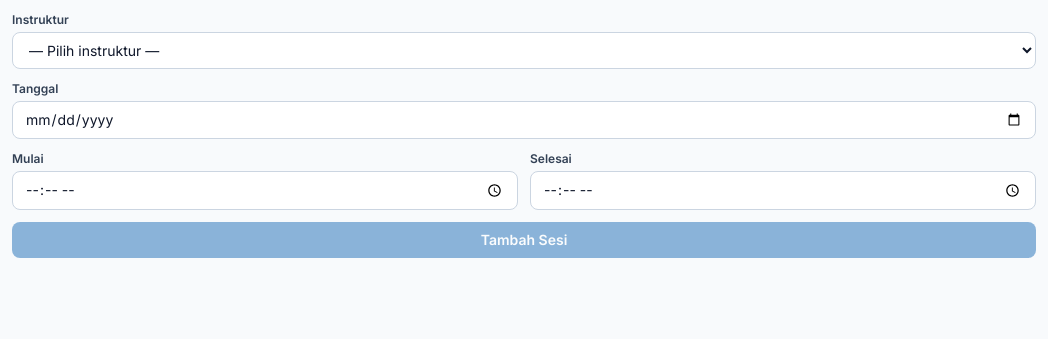
Scenario: TambahSesiForm › shows Indonesian error message when action returns { ok: false }
This screenshot has width=1048, height=339.
# Select instructor to enable submit
Select "Pak Slamet Riyadi" in the dropdown labelled "Instruktur" at (524, 50), box [12,32,1036,69]
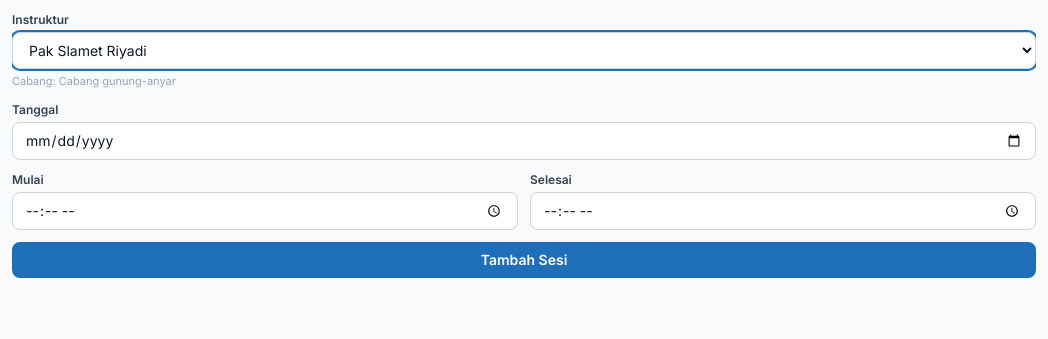
# Fill required fields to pass browser validation
Type "2026-08-01" into the date field labelled "Tanggal" at (524, 140), box [12,122,1036,160]
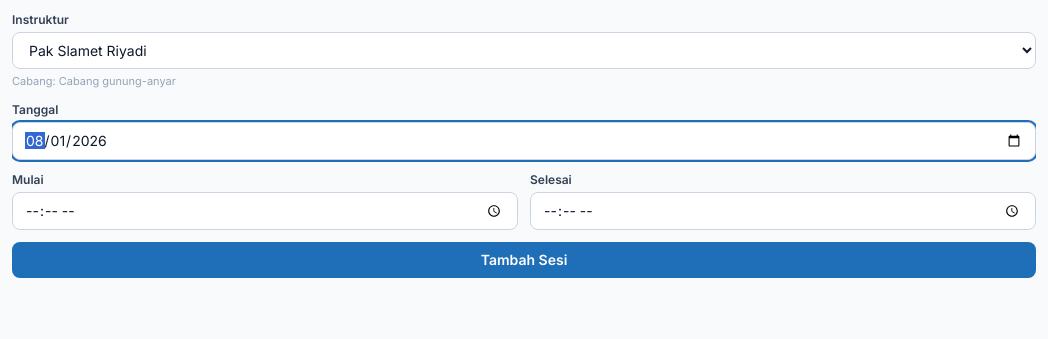
Type "09:00" into the time field labelled "Mulai" at (265, 211), box [12,192,518,230]
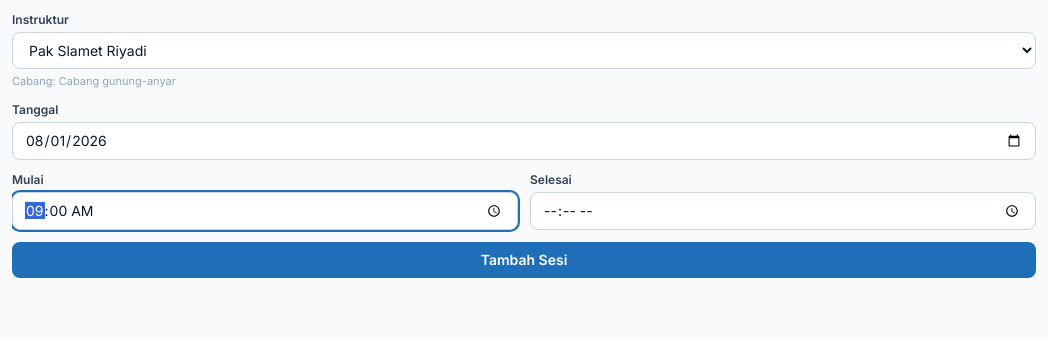
Type "10:00" into the time field labelled "Selesai" at (783, 211), box [530,192,1036,230]
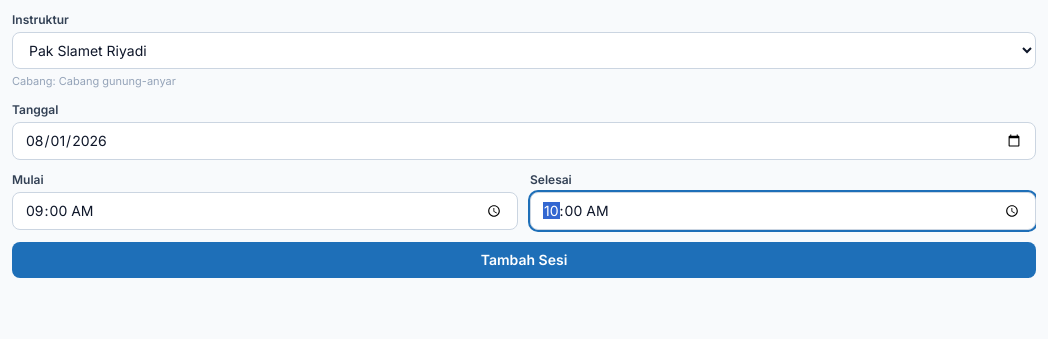
Click the button "Tambah Sesi" at (524, 260), box [12,242,1036,278]
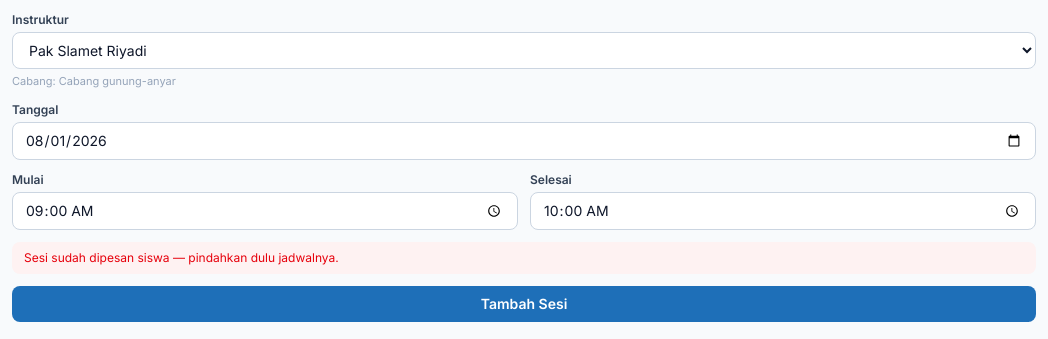
Now the message reads "Sesi sudah dipesan siswa — pindahkan dulu jadwalnya.", box [24,250,339,265]
